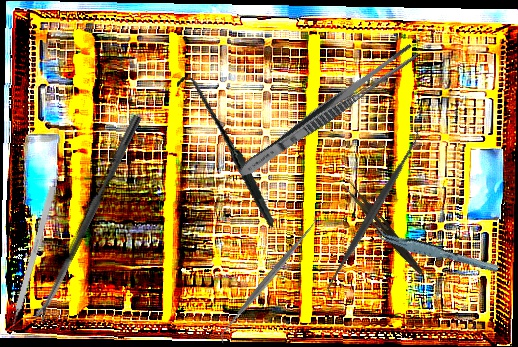Dressing Forceps: (235, 40, 420, 183), (338, 178, 429, 277)
Hook Surgical: (153, 75, 298, 228), (6, 186, 57, 337)
Spatula Surgical: (315, 126, 431, 301), (211, 214, 325, 345)
Surgical Spoon: (33, 113, 142, 323)
Tissue Forceps: (373, 215, 500, 287)
